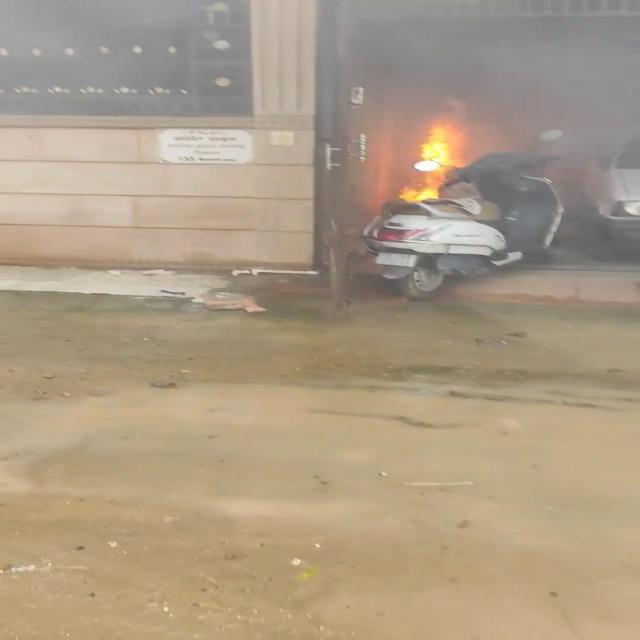Fire: (396, 117, 470, 206)
Smoke: (306, 0, 640, 146)
